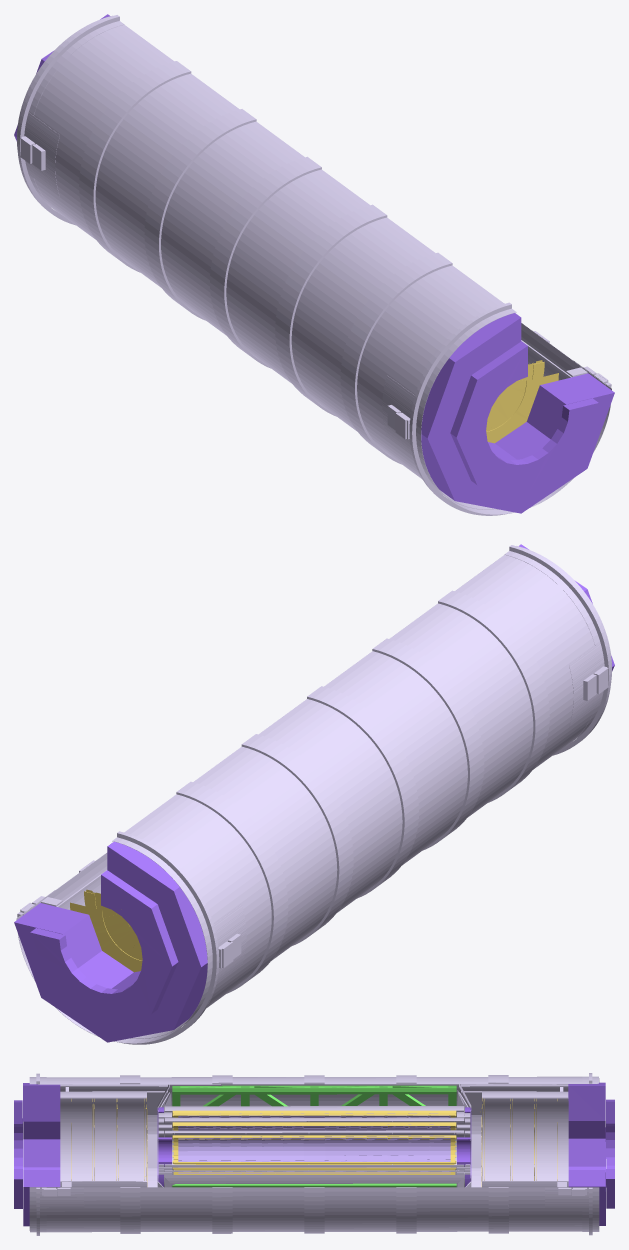
File: pixel-cut3.glb
3 views of the same model, one above another, from view 1: azimuth 30°, elevation 25°; view 2: azimuth 150°, elevation 25°; view 3: azimuth 270°, elevation 25° (orthographic). The views are drawn at different scales.
Parts seen in each view (by area): view 1: null; view 2: null; view 3: null.
Part boxes in pixels (box(x1,y1,x2,y2)): null: box(14, 14, 614, 515); null: box(14, 544, 614, 1044); null: box(14, 1073, 614, 1235).
Size of the model in its own units: 0.488 by 0.4808 by 1.77.
